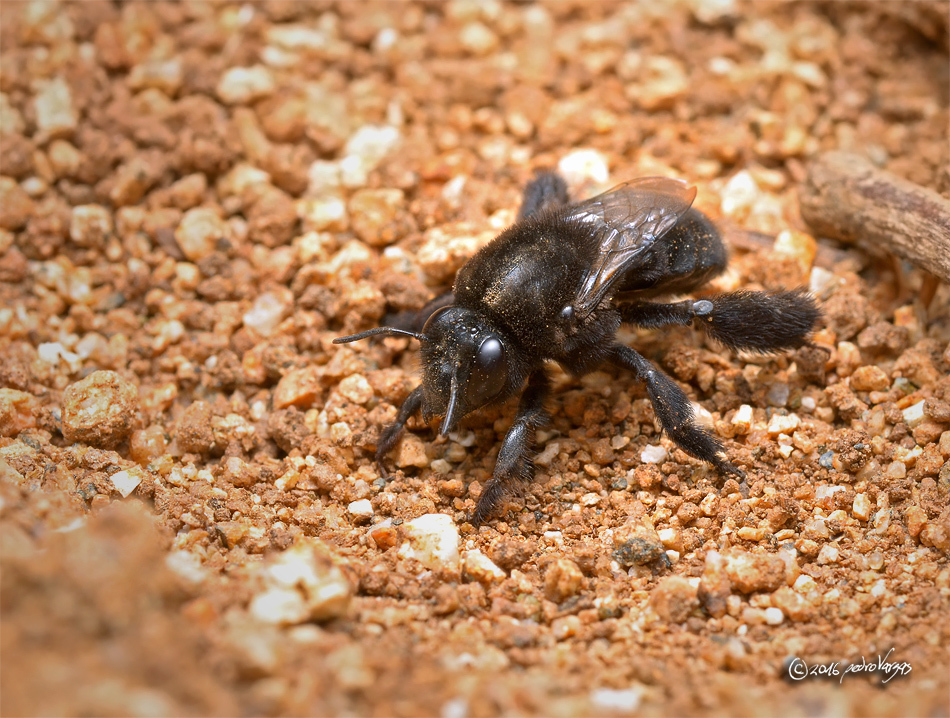not_bumblebee: (330, 169, 818, 530)
